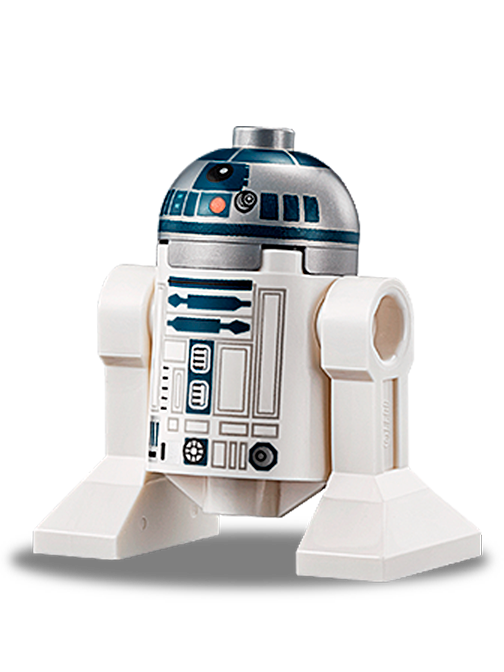r2d2: (31, 124, 483, 585)
